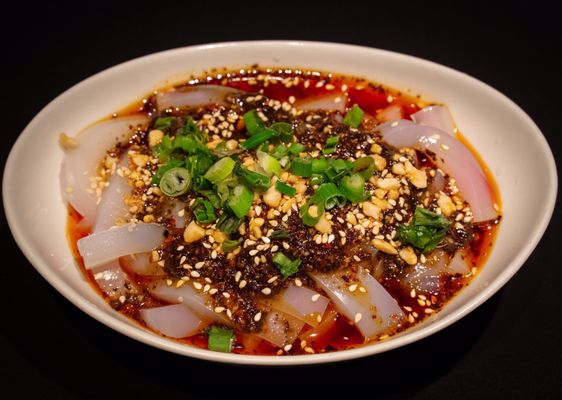curry: (396, 205, 453, 253)
sushi: (0, 40, 551, 380)
